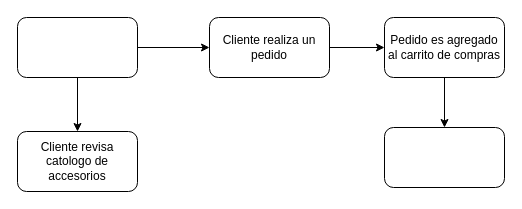
The diagram is 522 pixels wide and 209 high, and some of its shapes have lost their labels. Here are the shapes that lost their labels. From the top down, the centre of each, then its label:
the point at 77,47: Cliente inicia seion en Arka
the point at 444,157: Cliente realizo pago del pedido
